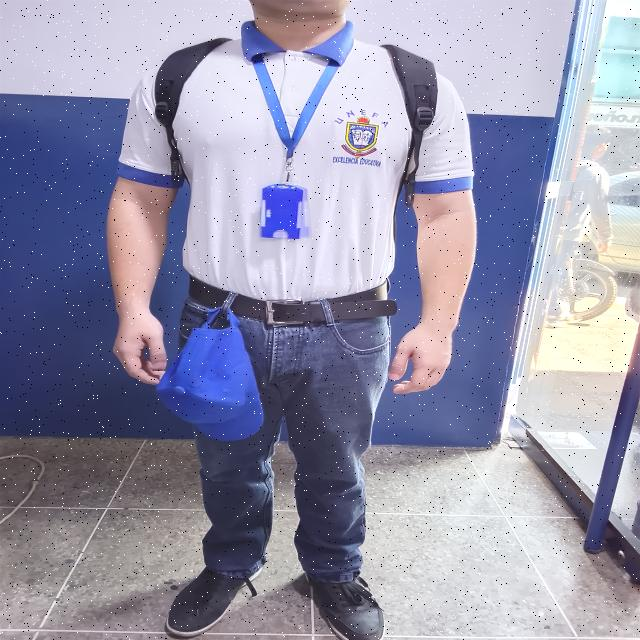carnet: (260, 188, 304, 239)
pantalon_oscuro: (178, 296, 392, 584)
uniforme_superior: (116, 20, 475, 302)
